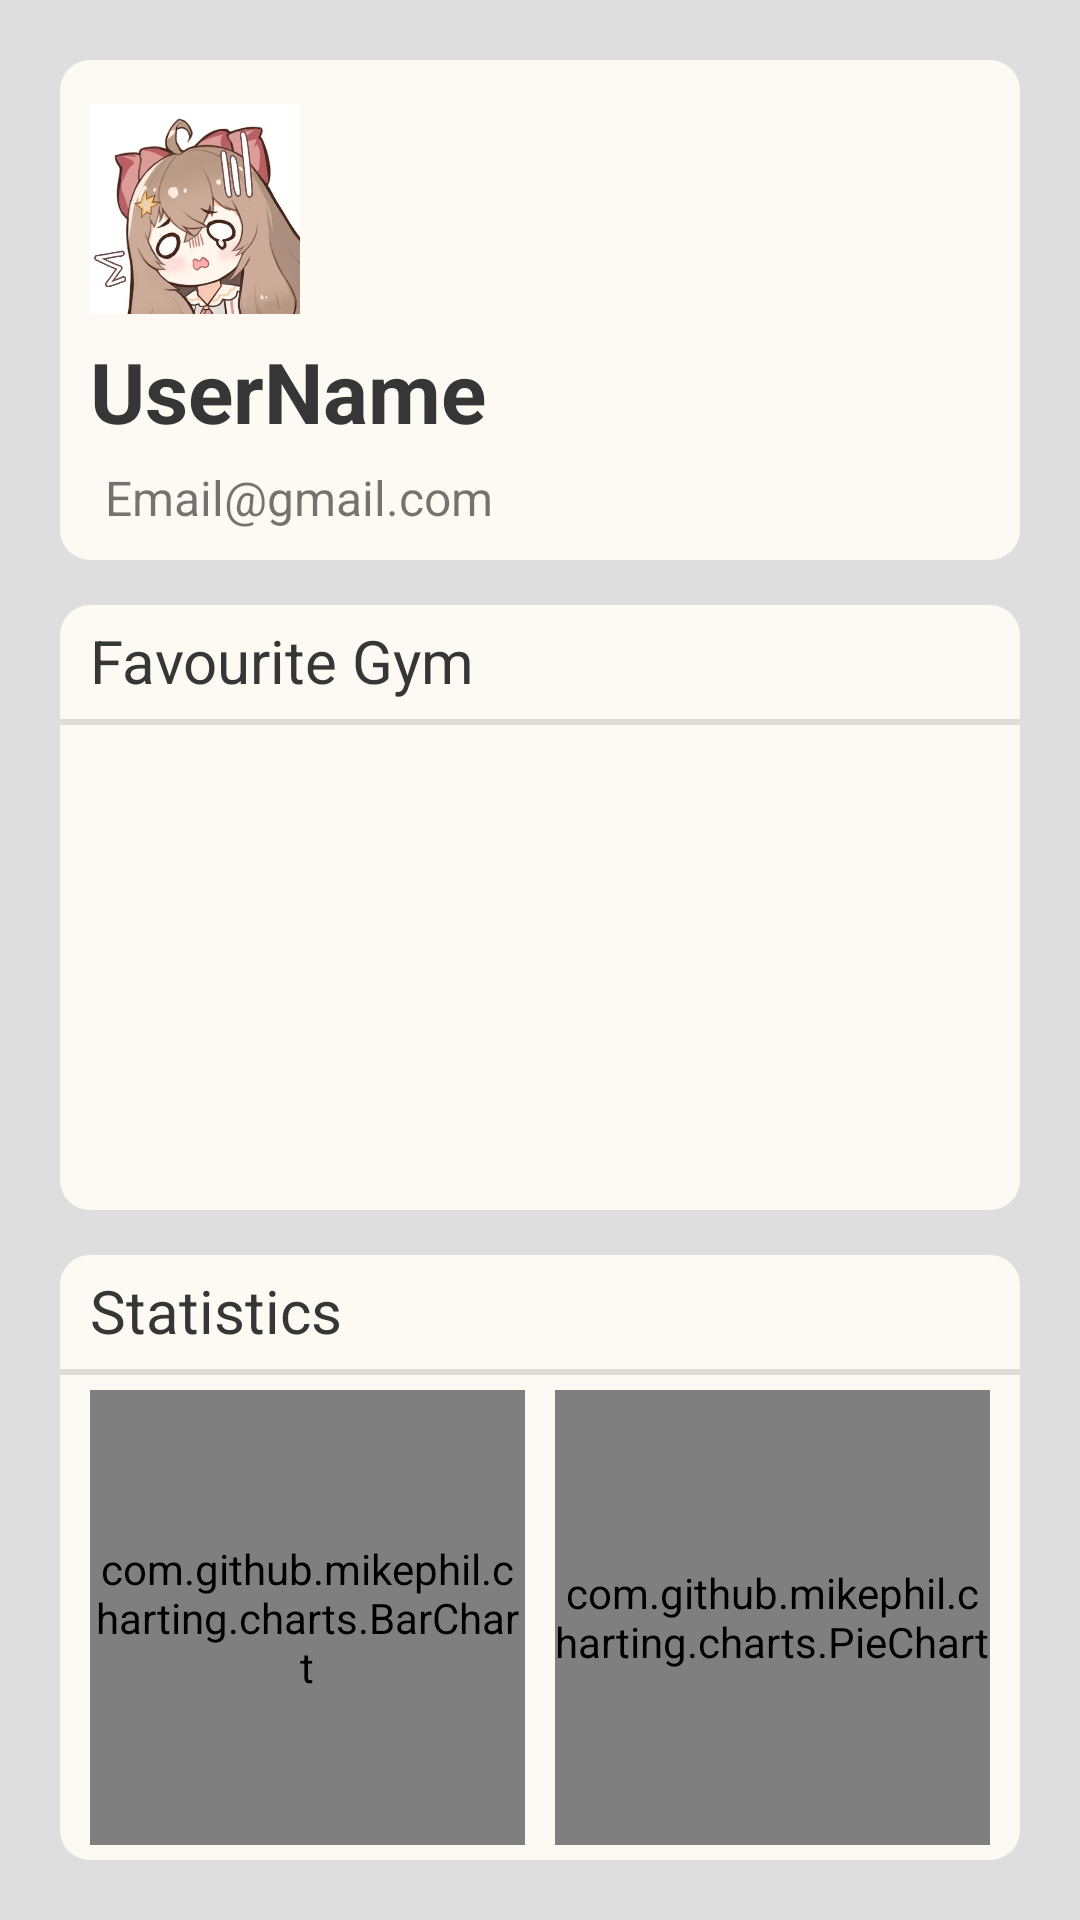

Point at icon controls on the screen. Image size 1080px x 1920px, points as (x=x, y=y).
avatar: (x=197, y=216)
